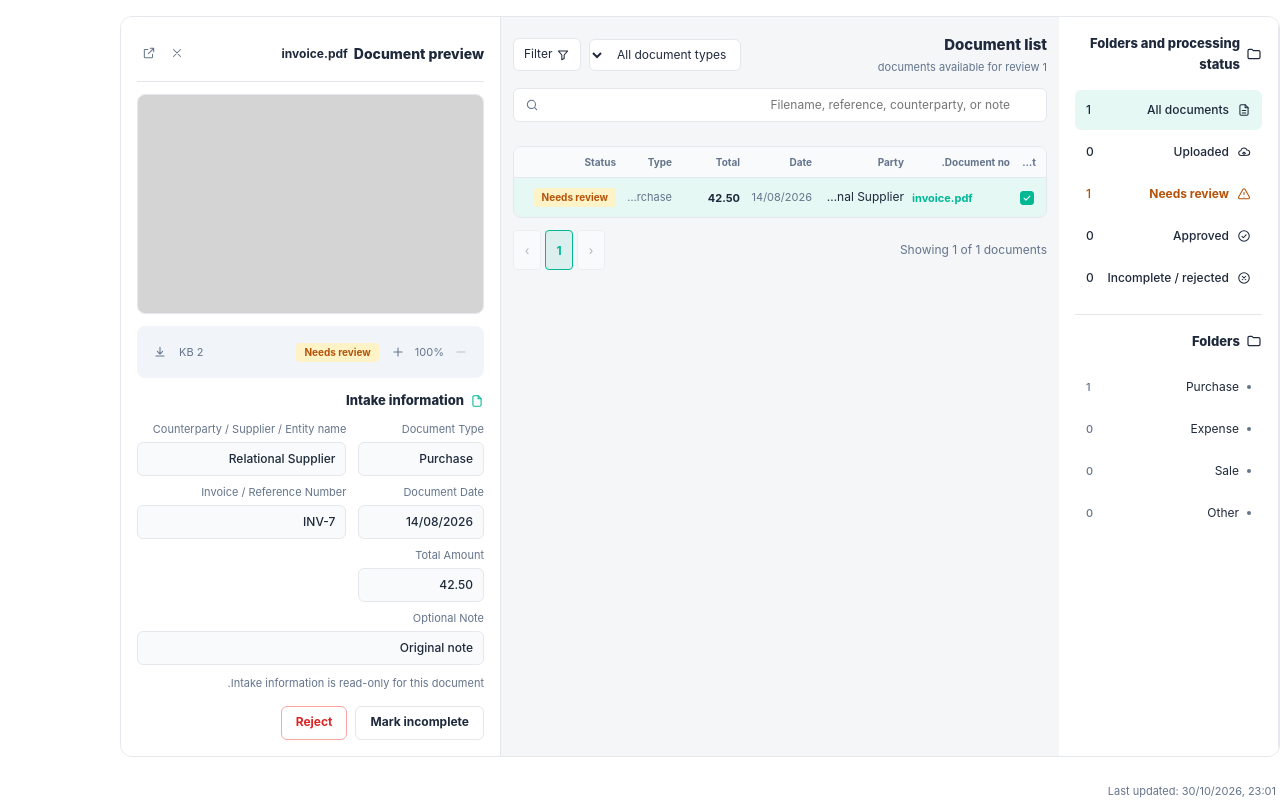
Documents › requires a reason before submitting Mark incomplete
(page scrolled)
Click the button "Mark incomplete" at (420, 723), box [356, 706, 484, 740]
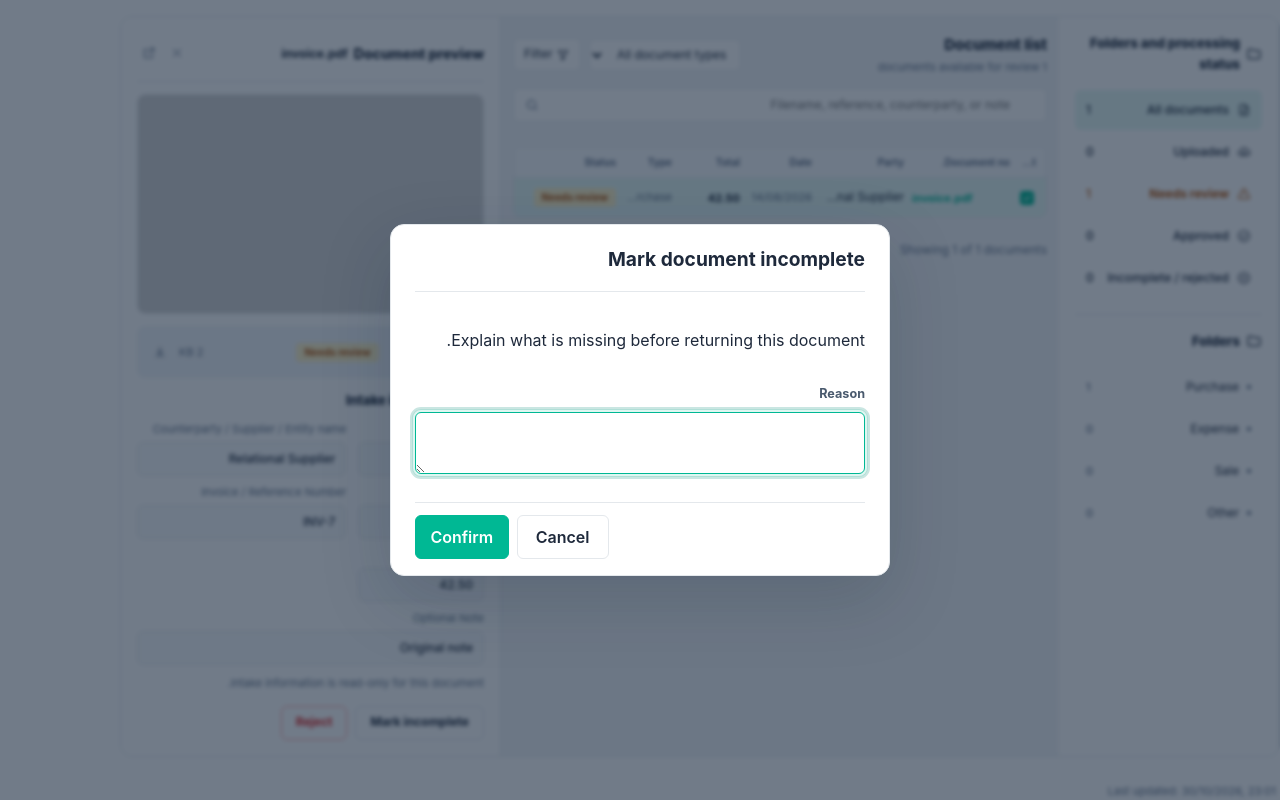
Submit the form "Confirm", box [415, 312, 865, 575]
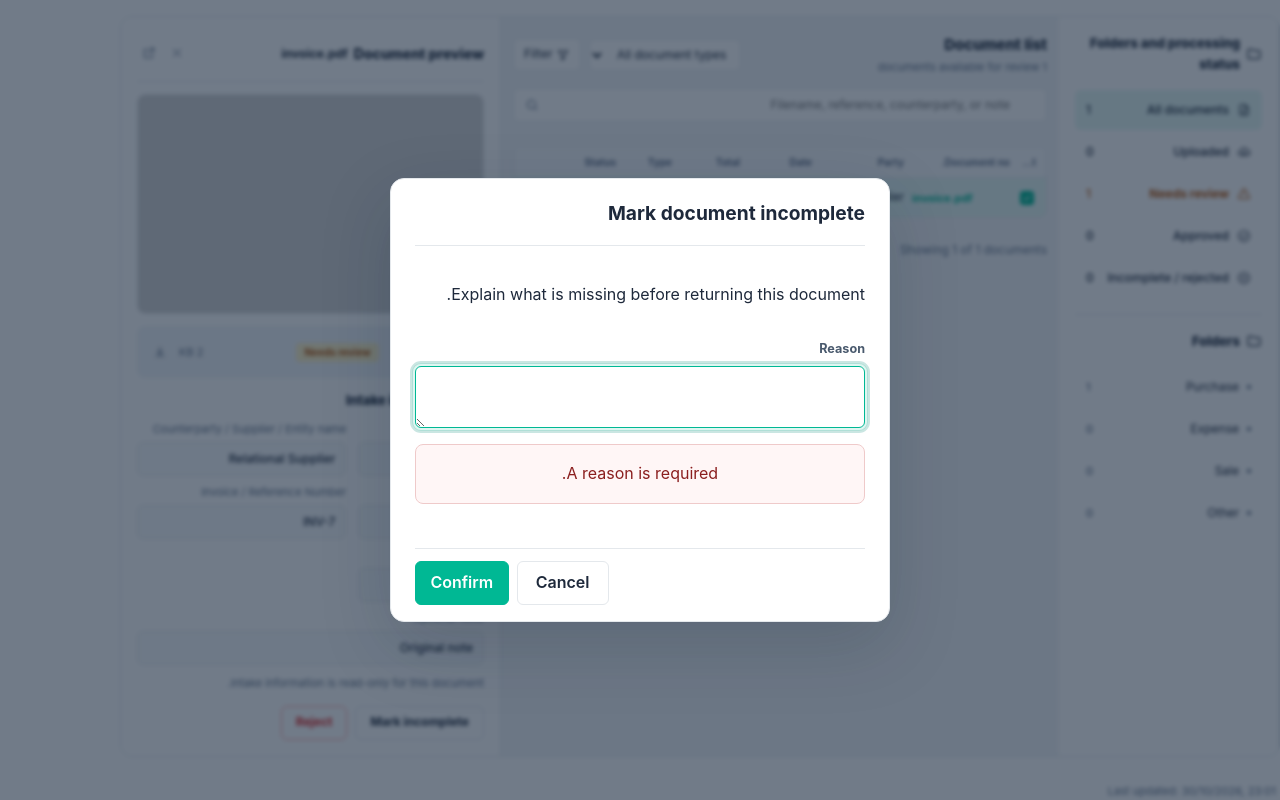
Expected: the message reads "A reason is required.", [562, 463, 718, 483]
